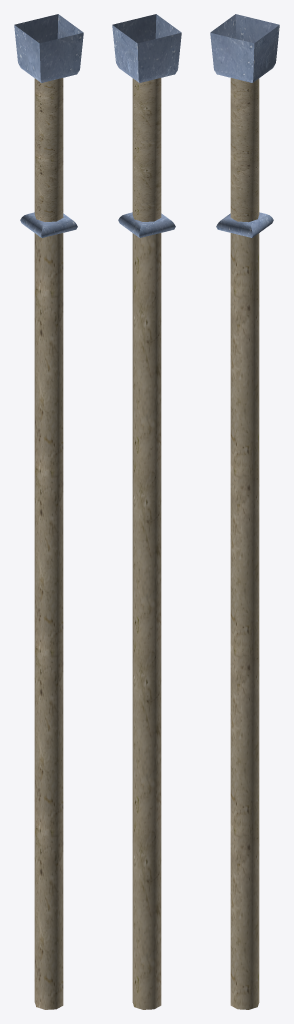
File: Floor_Columns_Top.fbx
3 views of the same model, side by side, from view 1: azimuth 30°, elevation 25°; view 2: azimuth 210°, elevation 25°; view 3: azimuth 330°, elevation 25° (orthographic).
Visible parts, largest first — view 1: A01_Floor_Columns_Top.001; view 2: A01_Floor_Columns_Top.001; view 3: A01_Floor_Columns_Top.001.
Boxes of the visible parts, left/top/right/bottom form: A01_Floor_Columns_Top.001: left=14, top=14, right=83, bottom=1009; A01_Floor_Columns_Top.001: left=112, top=14, right=181, bottom=1009; A01_Floor_Columns_Top.001: left=210, top=14, right=279, bottom=1009.
Size of the model in its own units: 1187 by 1187 by 25053.
